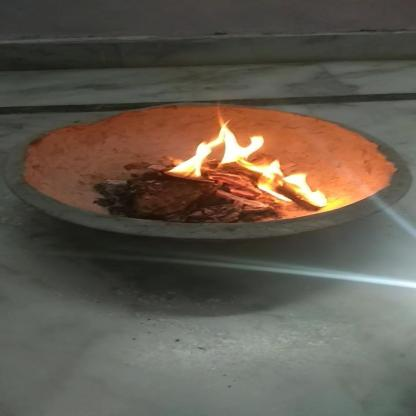fire: (166, 122, 288, 176), (256, 172, 332, 209)
